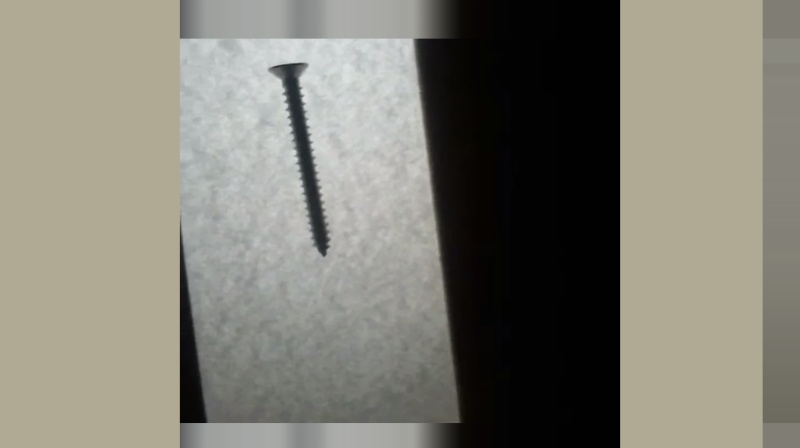S002: (264, 60, 332, 260)
